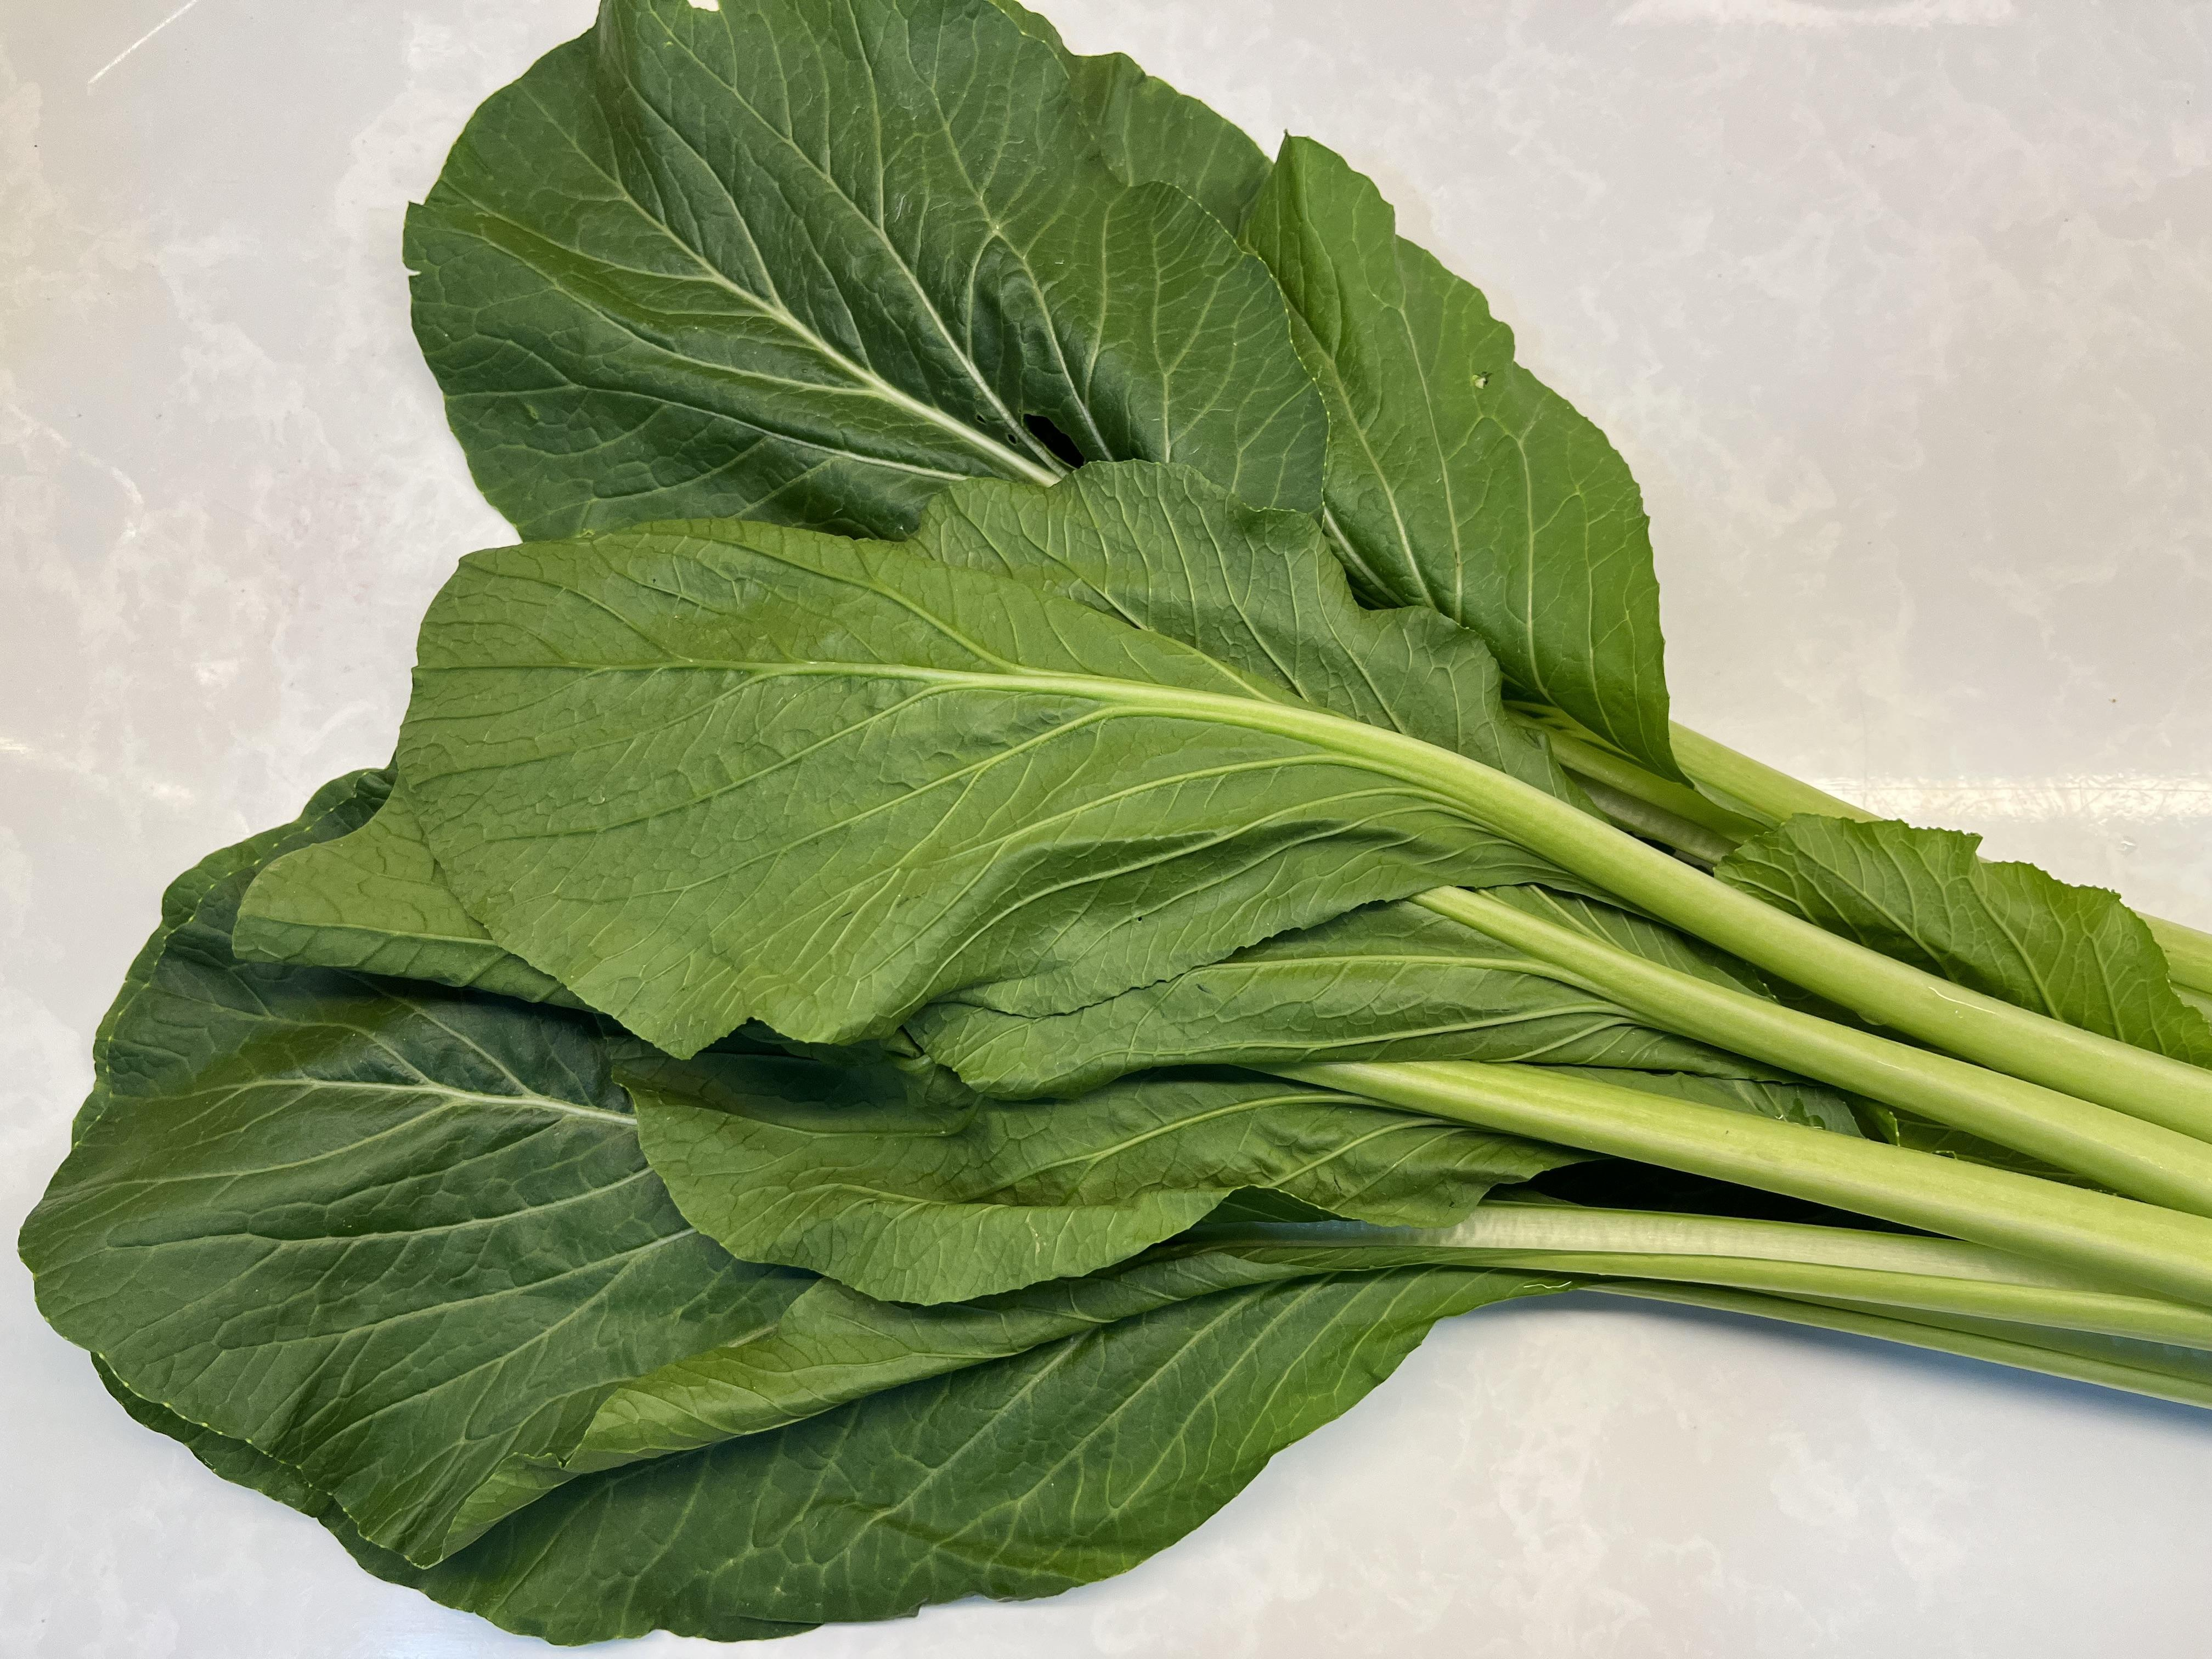Healthy-Pechay: (197, 87, 2118, 1509)
